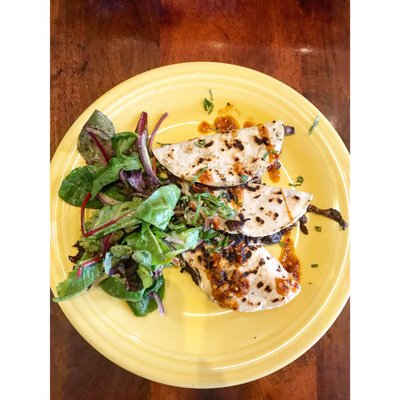curry: (50, 1, 363, 370)
